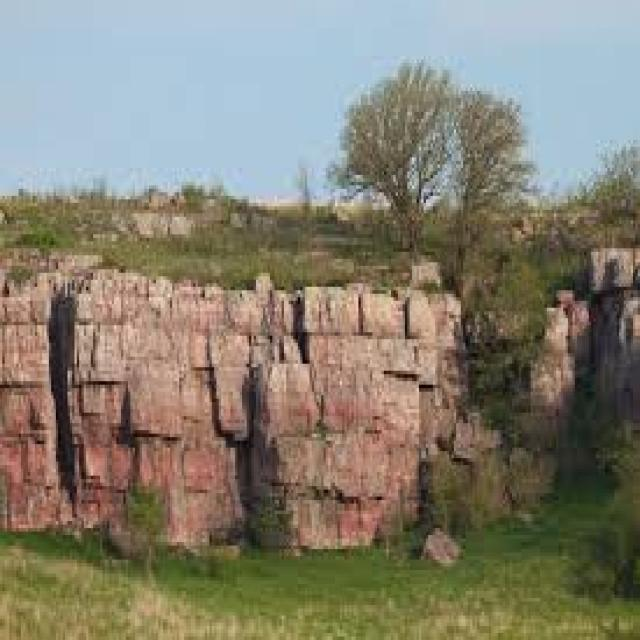Metamorphic: (2, 258, 461, 560)
